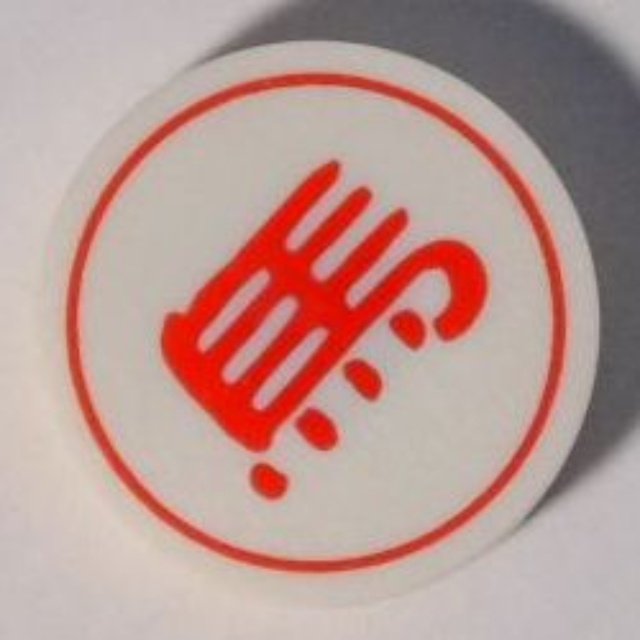red_ma: (25, 38, 614, 607)
